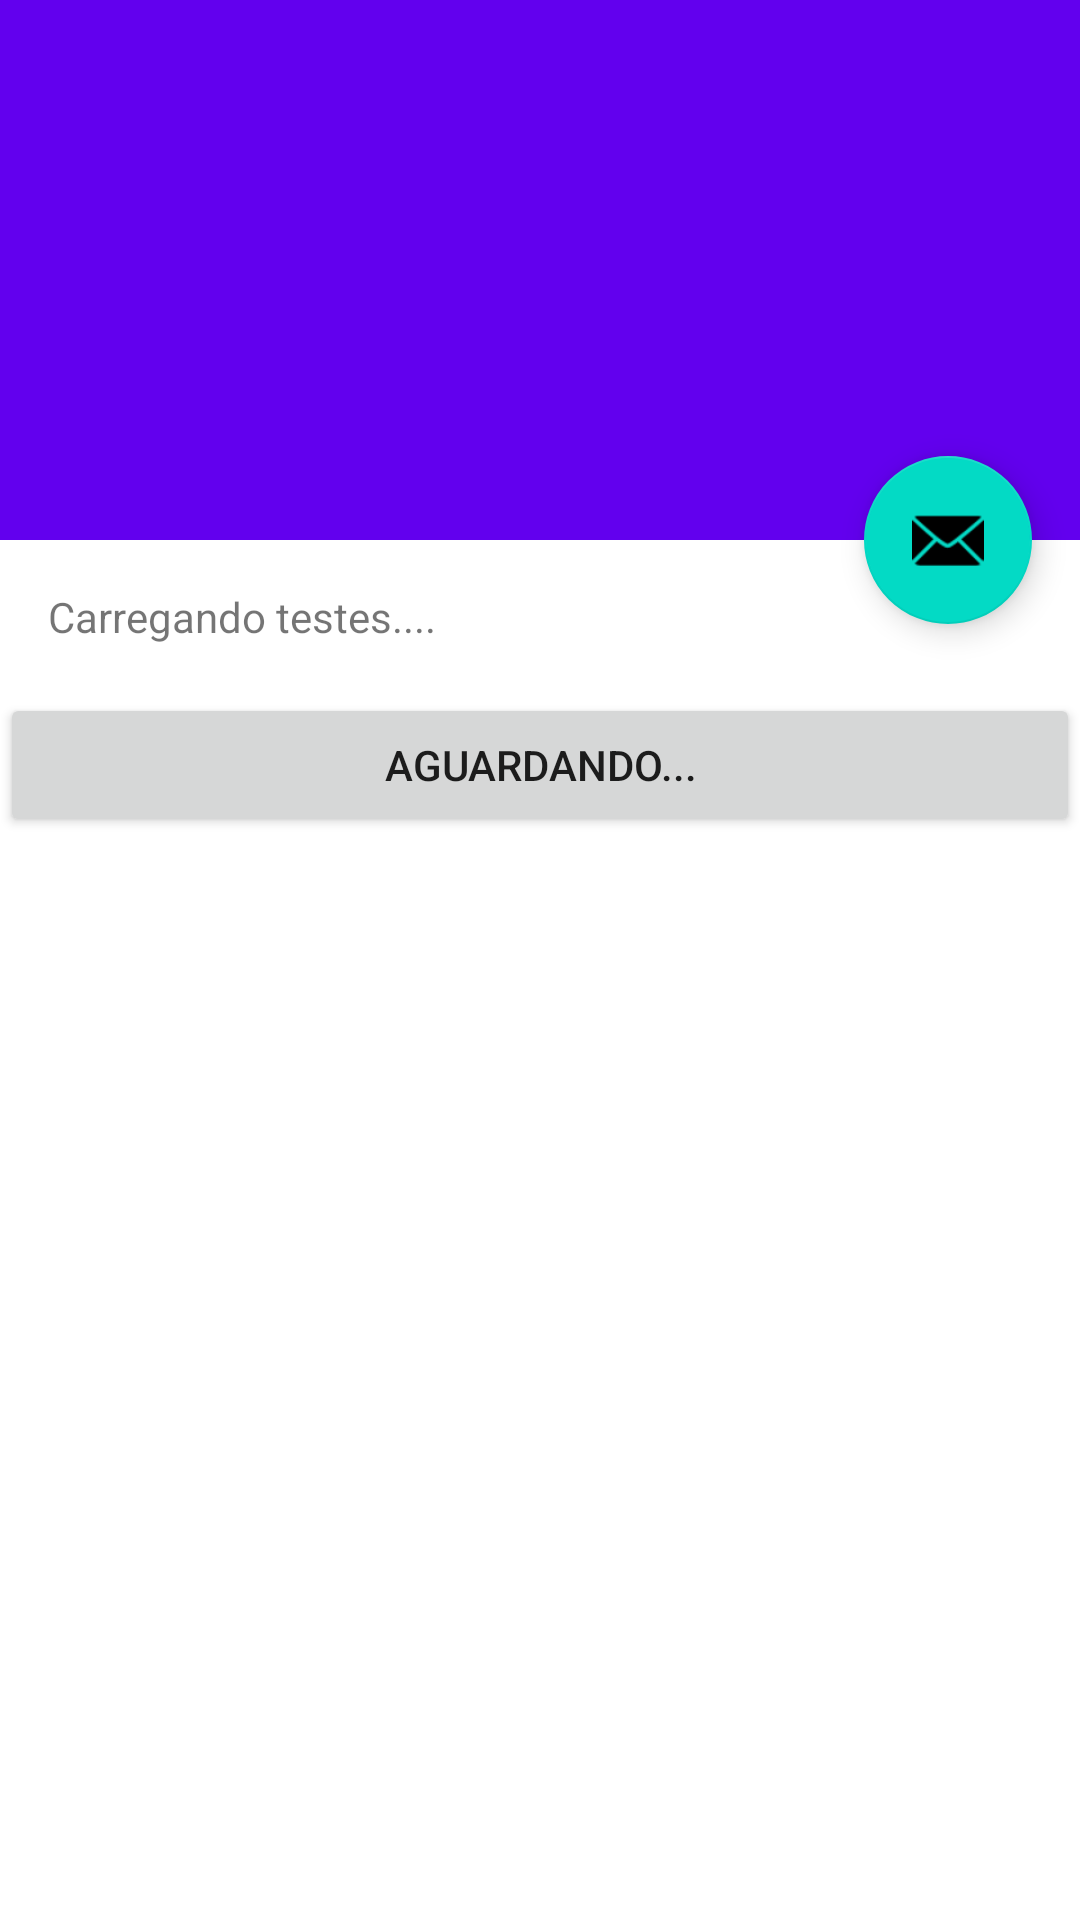

Named icons in this screenshot (1080px×1920px) and their centers, (x=x, y=y):
email: (x=948, y=540)
